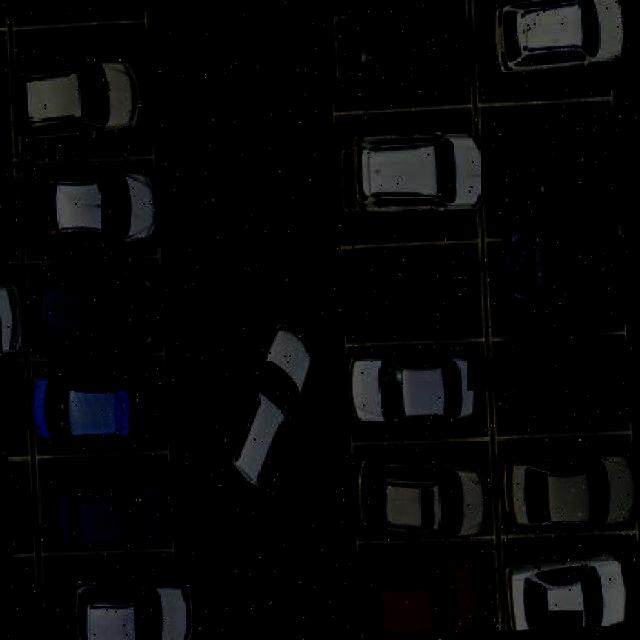empty: (335, 241, 477, 337)
occupied: (496, 204, 633, 329), (492, 317, 634, 432), (492, 437, 640, 542), (35, 249, 174, 357), (340, 118, 489, 218), (338, 336, 480, 438), (510, 111, 636, 224), (28, 151, 168, 252), (482, 0, 627, 97), (351, 453, 493, 552), (49, 456, 180, 562), (27, 360, 156, 460), (11, 54, 147, 145), (338, 0, 472, 92), (60, 552, 200, 640), (345, 550, 482, 639), (503, 545, 639, 630), (8, 471, 31, 567), (0, 278, 25, 360), (3, 366, 23, 455), (14, 589, 39, 640), (0, 171, 14, 262)
